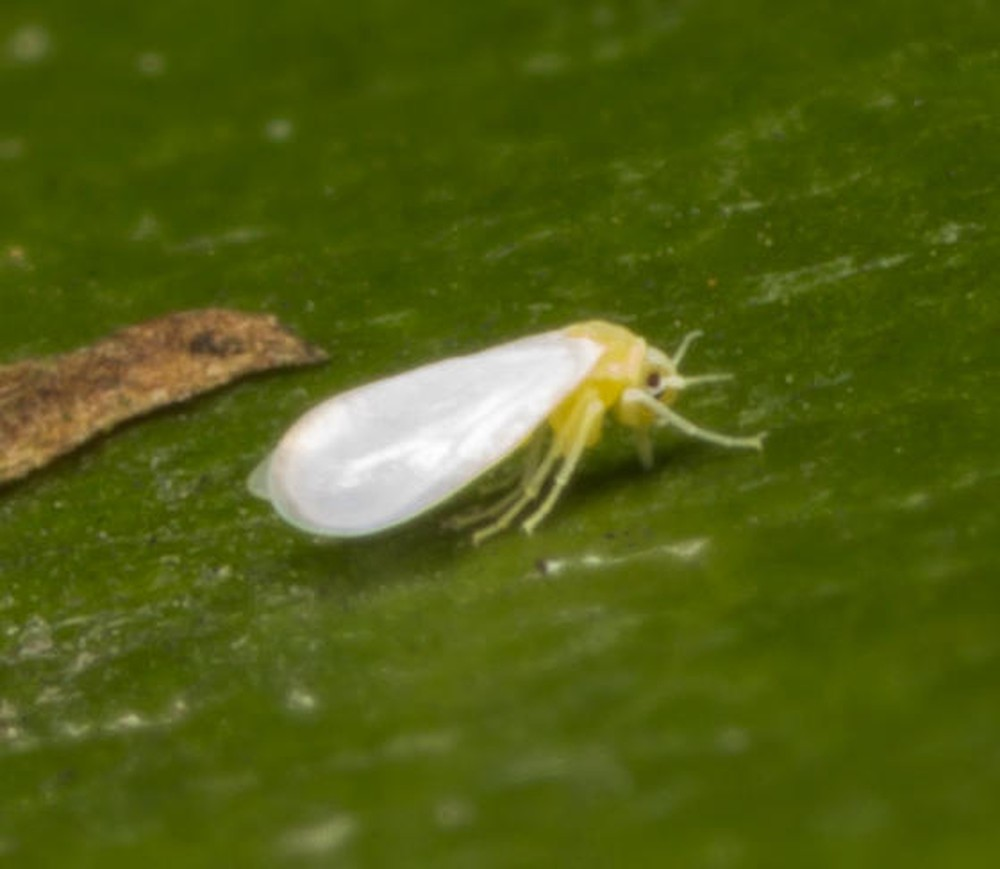Mosca Blanca: (244, 293, 802, 557)
